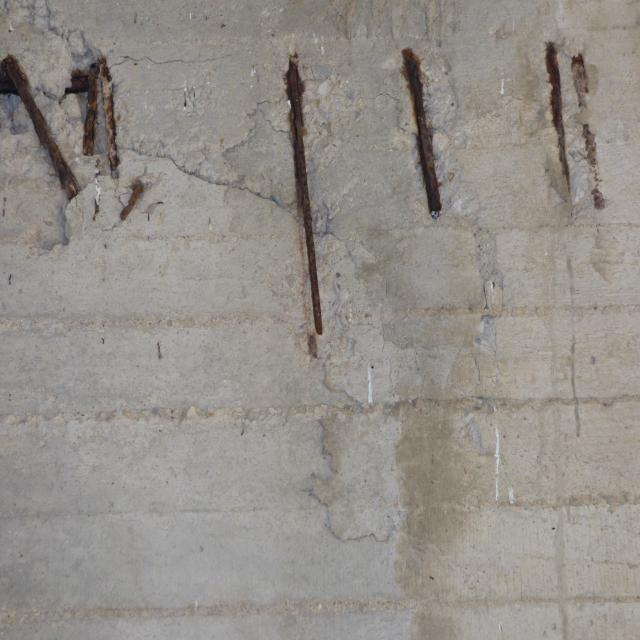corrosion: (0, 49, 164, 241), (267, 48, 352, 364), (532, 26, 617, 220), (385, 38, 461, 232)
